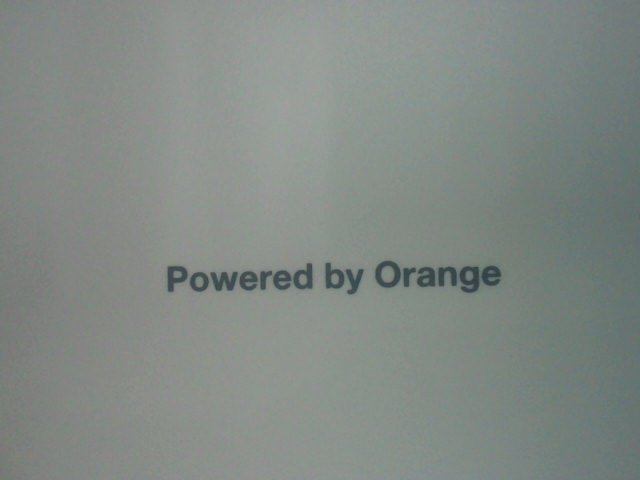AS_PowerByOrange: (158, 253, 517, 306)
